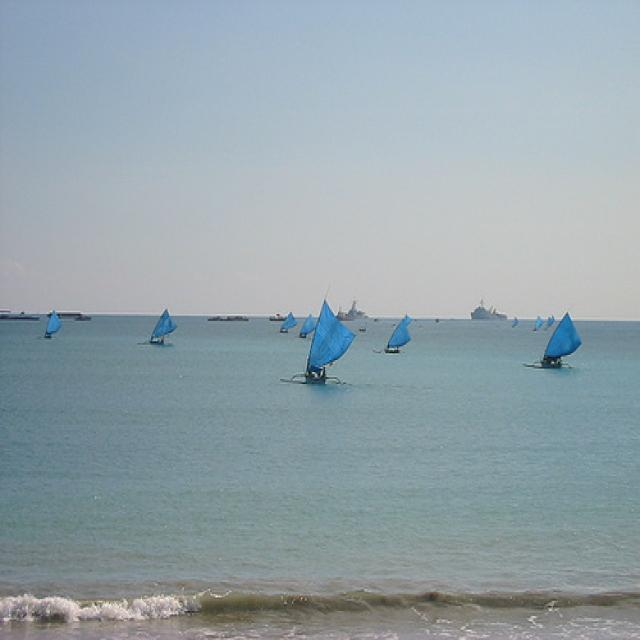boat: (280, 298, 356, 385), (524, 312, 584, 370), (140, 306, 179, 346), (372, 317, 413, 354), (36, 310, 64, 342), (471, 298, 509, 320), (294, 313, 317, 341), (344, 298, 372, 318), (276, 312, 299, 334), (331, 306, 357, 322), (534, 317, 544, 332), (512, 315, 519, 329), (544, 317, 551, 330), (549, 313, 555, 327)
